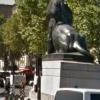Statue: (38, 0, 94, 69)
